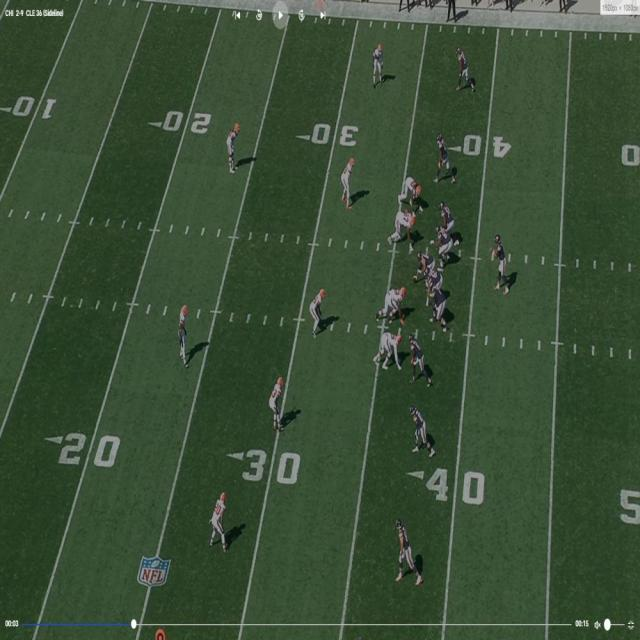center: (420, 250, 438, 278)
db: (208, 490, 227, 545), (270, 377, 286, 427), (228, 124, 242, 174), (181, 306, 190, 364), (373, 43, 385, 84)
lb: (308, 287, 325, 333), (342, 160, 356, 204)
qb: (493, 232, 509, 296)
skill: (396, 520, 417, 582), (414, 400, 433, 454), (436, 130, 454, 180), (410, 334, 428, 382), (459, 46, 475, 89)
